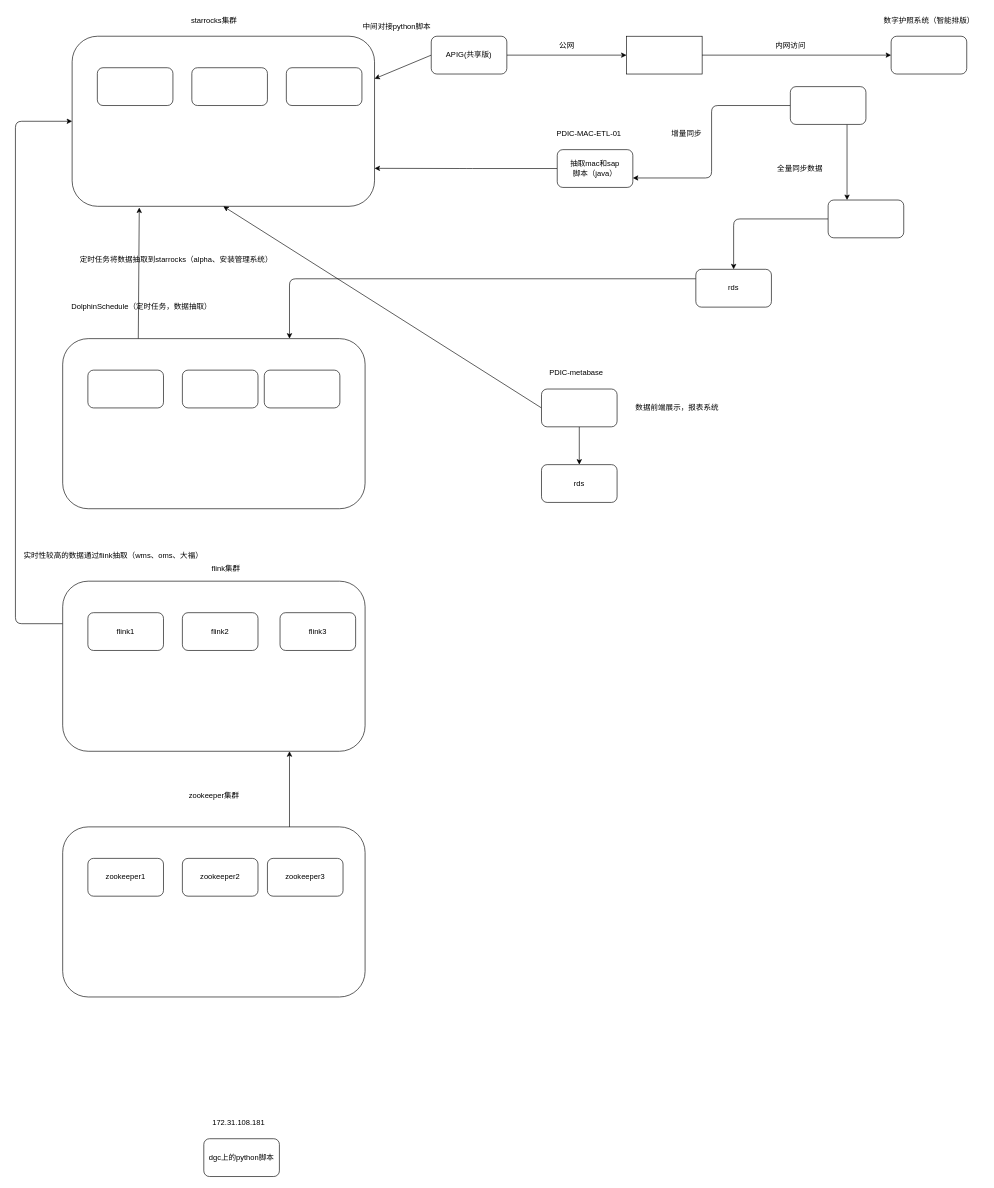
Some shapes in this 994 by 1188 pixel diagram are drawn without their labels. Here are the shapes that lost their labels. From the top down, the centre of each, then its label:
At (664,55): "PDIC-APIG-PROXY".
At (828,105): "mac sap(hana)".
At (866,218): "dataservice".
